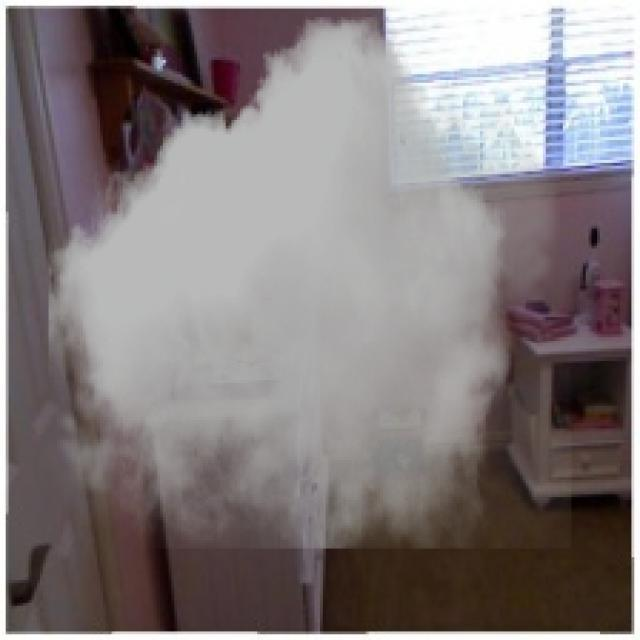Smoke: (39, 17, 572, 549)
